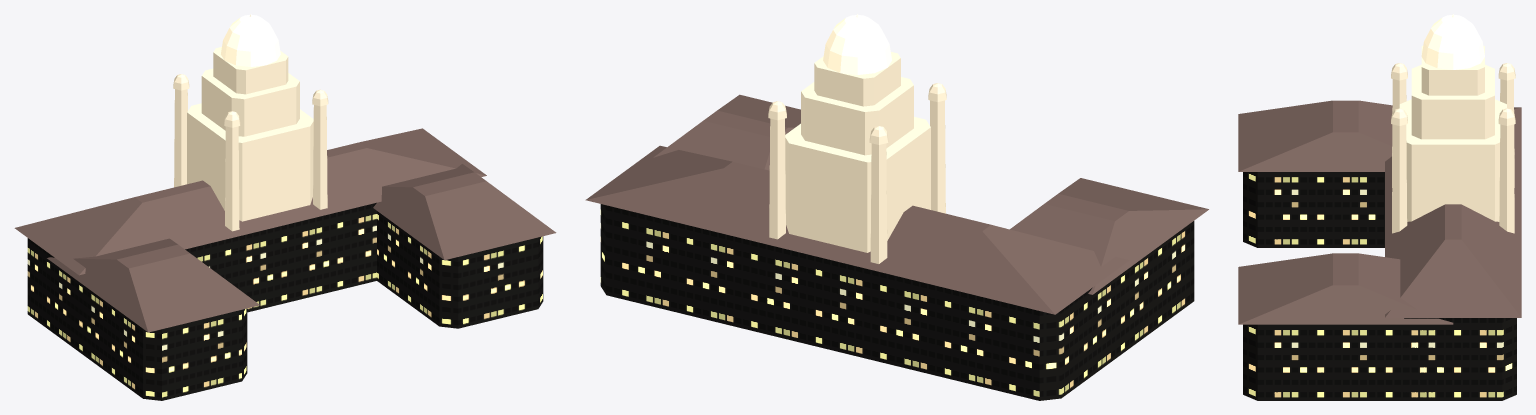
File: sultan-ibrahim-building.glb
3 views of the same model, side by side, from view 1: azimuth 30°, elevation 25°; view 2: azimuth 150°, elevation 25°; view 3: azimuth 270°, elevation 25° (orthographic). The views are drawn at different scales.
Visible parts, largest first — view 1: range-roof, tower, range, wing--1, wing-1, wing-roof--1, wing-roof-1, turrets, cupola; view 2: range, range-roof, tower, wing-roof--1, wing--1, turrets, wing-roof-1, cupola; view 3: range-roof, wing-1, tower, wing-roof-1, wing--1, wing-roof--1, range, turrets, cupola.
Part boxes in pixels (x1,y1,x2,y2): range-roof: [14, 128, 486, 275]; tower: [187, 47, 313, 221]; range: [27, 202, 376, 337]; wing--1: [60, 269, 247, 400]; wing-1: [377, 211, 543, 328]; wing-roof--1: [47, 238, 259, 332]; wing-roof-1: [373, 164, 556, 260]; turrets: [173, 74, 328, 231]; cupola: [221, 14, 280, 66]; range: [600, 204, 1114, 400]; range-roof: [585, 145, 1129, 314]; tower: [785, 52, 930, 252]; wing-roof--1: [1010, 178, 1208, 294]; wing--1: [1111, 221, 1194, 360]; turrets: [768, 83, 946, 263]; wing-roof-1: [653, 94, 800, 170]; cupola: [823, 15, 891, 74]; range-roof: [1385, 107, 1521, 317]; wing-1: [1243, 324, 1433, 400]; tower: [1399, 46, 1506, 221]; wing-roof-1: [1238, 253, 1453, 324]; wing--1: [1243, 172, 1384, 247]; wing-roof--1: [1238, 100, 1392, 171]; range: [1404, 318, 1516, 400]; turrets: [1391, 63, 1515, 233]; cupola: [1421, 15, 1484, 69].
Size of the model in its own units: 102 by 64 by 58.
Materials: 4 (1 with a texture image).
